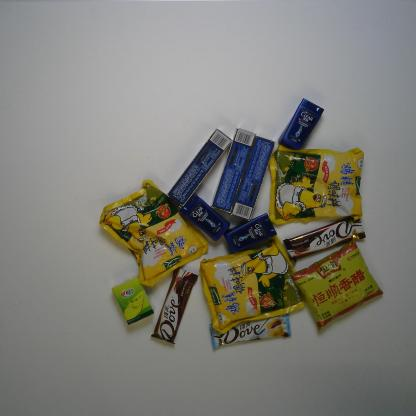Chocolate: (282, 216, 366, 263), (150, 266, 199, 344), (209, 313, 292, 349)
Personal Hygiene: (167, 128, 233, 209), (210, 127, 257, 214), (229, 135, 276, 222), (178, 192, 230, 242), (278, 98, 324, 150), (224, 212, 278, 254)
Seasoner: (99, 180, 209, 287), (199, 235, 306, 334), (289, 237, 384, 332), (268, 145, 365, 225)
Tissue: (111, 275, 155, 326)
